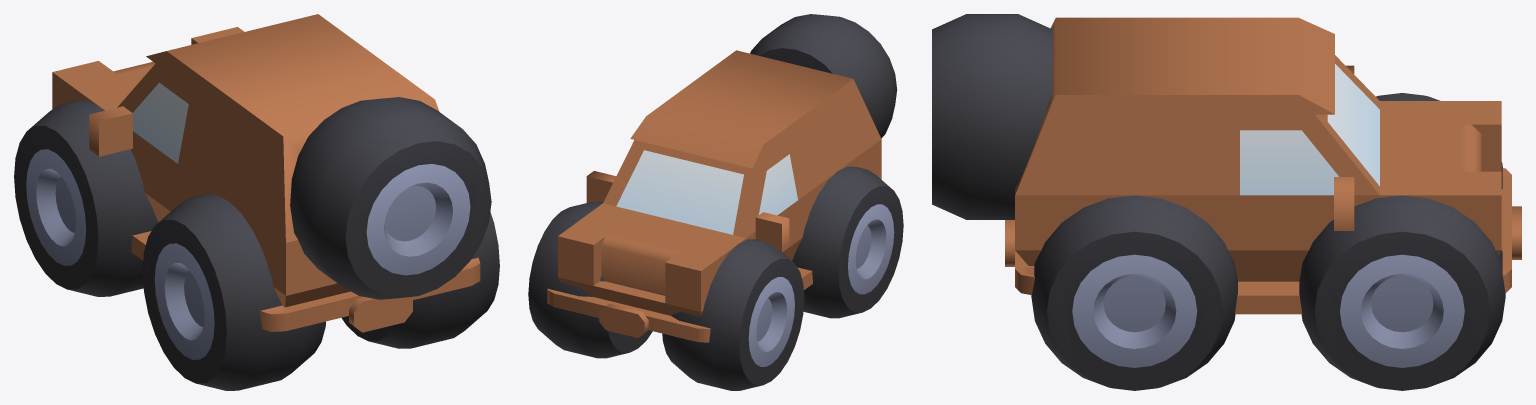
The model's file is monster.glb.
3 renders of one model, left to right at view 1: azimuth 30°, elevation 25°; view 2: azimuth 150°, elevation 25°; view 3: azimuth 270°, elevation 25°, orthographic. The views are drawn at different scales.
Visible parts, largest first — view 1: body, wheel-back, wheel-back-left, wheel-front-left, wheel-back-right; view 2: body, wheel-front-left, wheel-back-left, wheel-back, wheel-front-right; view 3: body, wheel-back-right, wheel-front-right, wheel-back.
Boxes of the visible parts, left/top/right/bottom form: body: left=52, top=14, right=480, bottom=332; wheel-back: left=290, top=97, right=491, bottom=299; wheel-back-left: left=142, top=194, right=325, bottom=390; wheel-front-left: left=14, top=100, right=158, bottom=296; wheel-back-right: left=341, top=212, right=499, bottom=348; body: left=547, top=50, right=881, bottom=342; wheel-front-left: left=662, top=239, right=804, bottom=390; wheel-back-left: left=792, top=166, right=903, bottom=318; wheel-back: left=750, top=14, right=897, bottom=138; wheel-front-right: left=528, top=201, right=652, bottom=358; body: left=1005, top=17, right=1521, bottom=314; wheel-back-right: left=1031, top=195, right=1237, bottom=390; wheel-front-right: left=1299, top=195, right=1505, bottom=390; wheel-back: left=932, top=14, right=1052, bottom=219.
Size of the model in its own units: 1.75 by 1.84 by 3.15.
2 materials, 1 textured.
